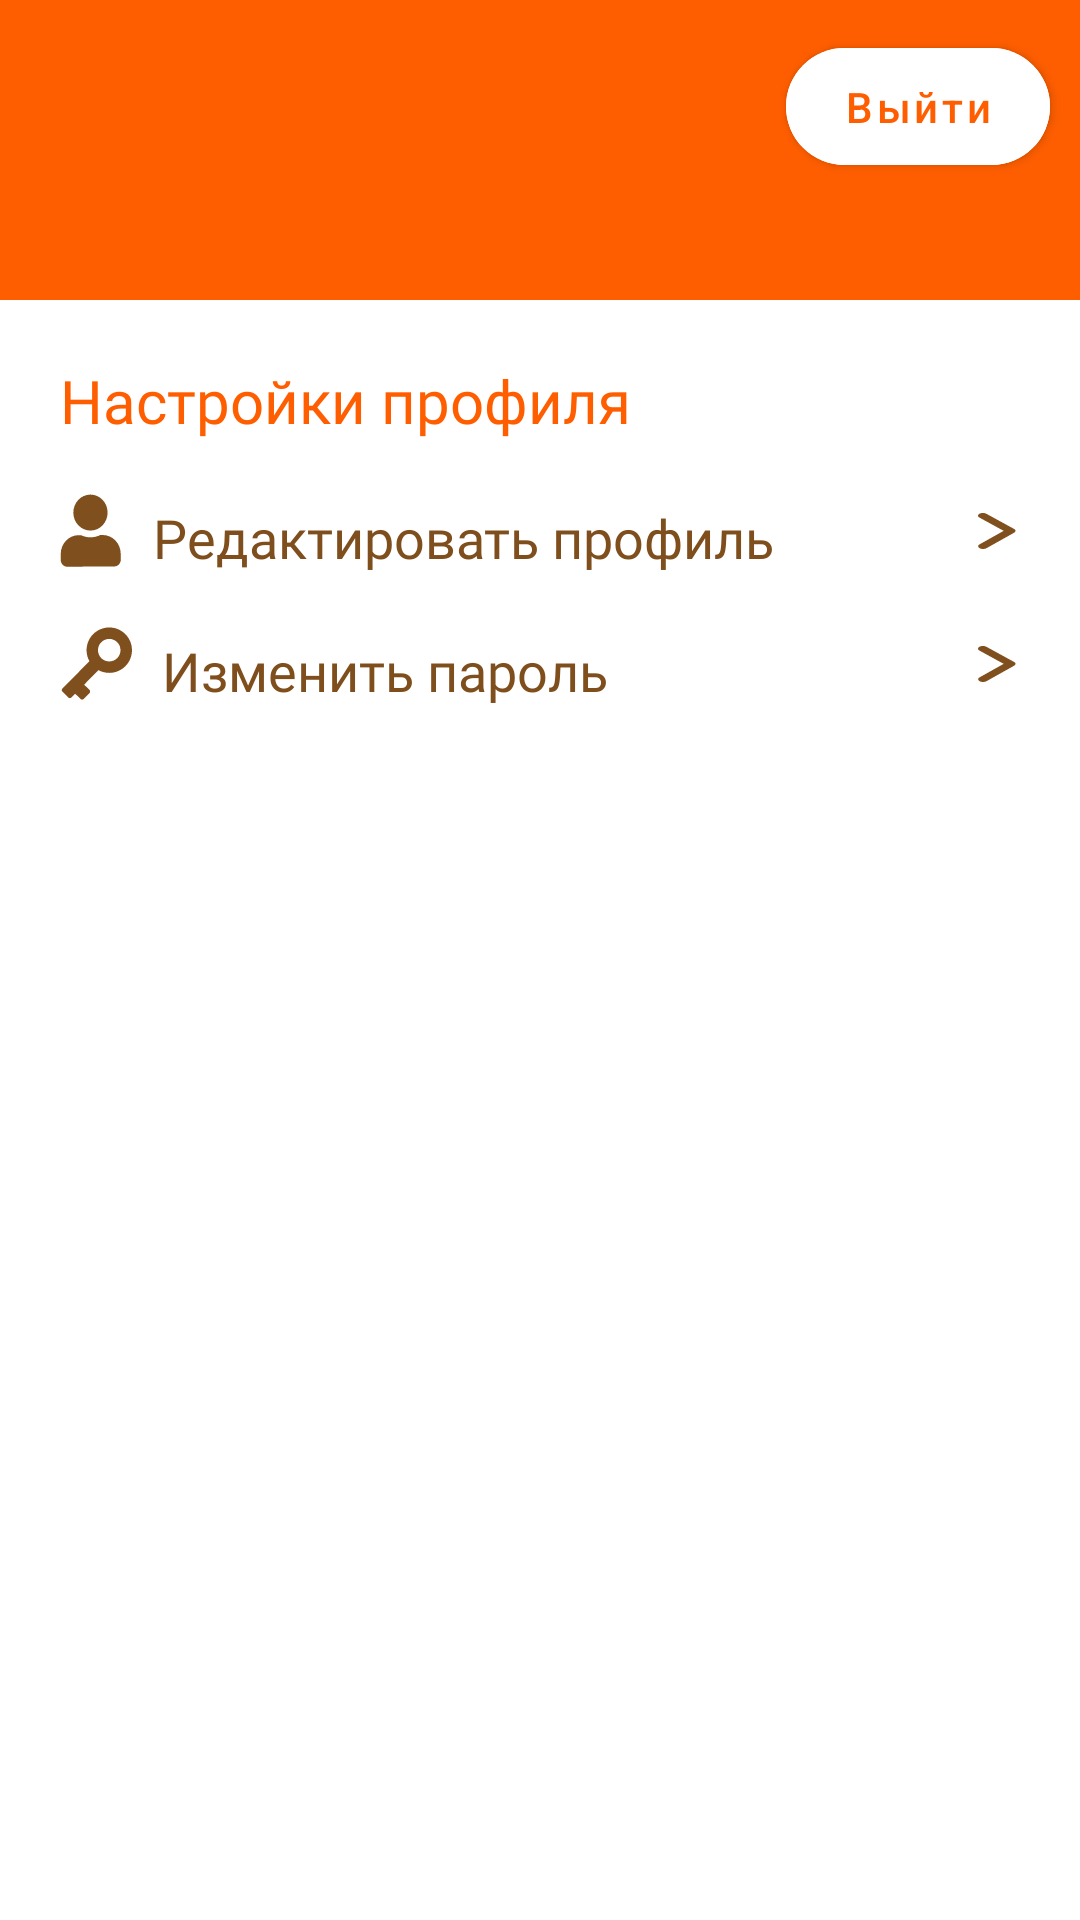

Screen size 1080 x 1920. Icon name, then its box in pixels as bbox=(x1, y1, x2, y2):
key: bbox=(61, 627, 132, 700)
user: bbox=(60, 494, 121, 567)
